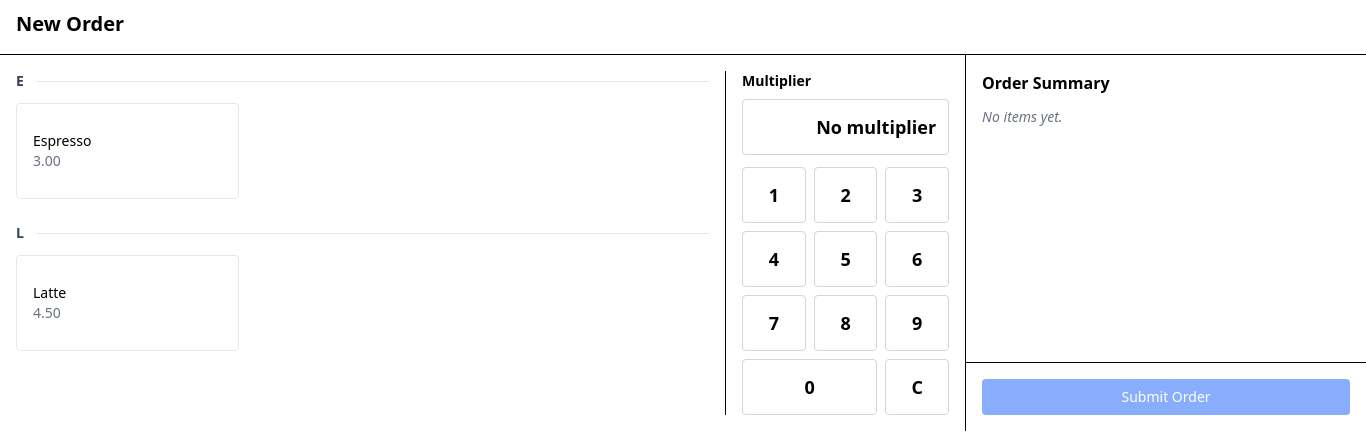
Test: Order › removes article from cart when quantity reaches zero via decrease
This screenshot has width=1366, height=448.
Click the button "Espresso 3.00": (128, 151) [16,103,239,199]
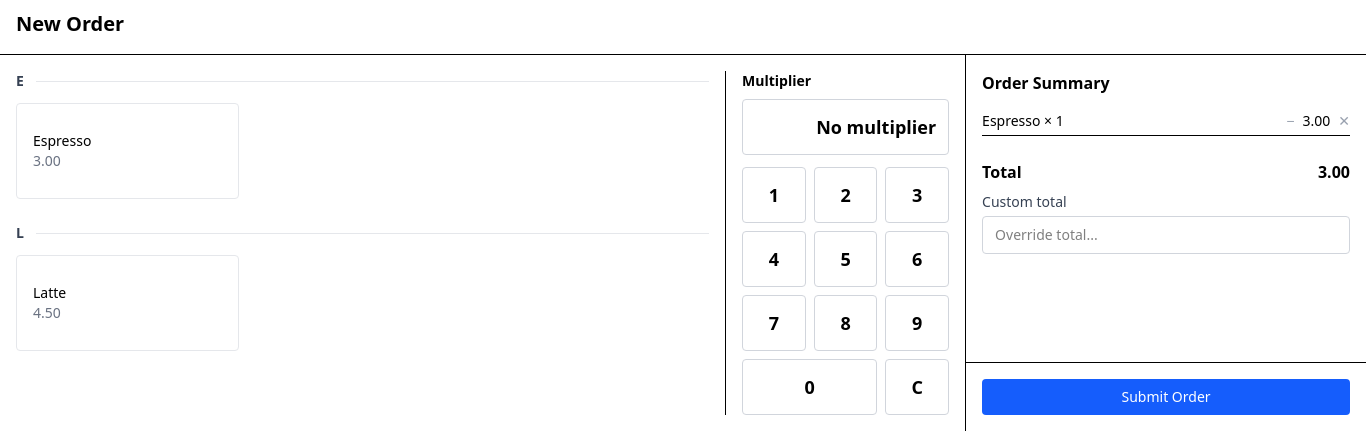
Click the button named "Decrease Espresso": (1290, 121) [1286,111,1294,131]
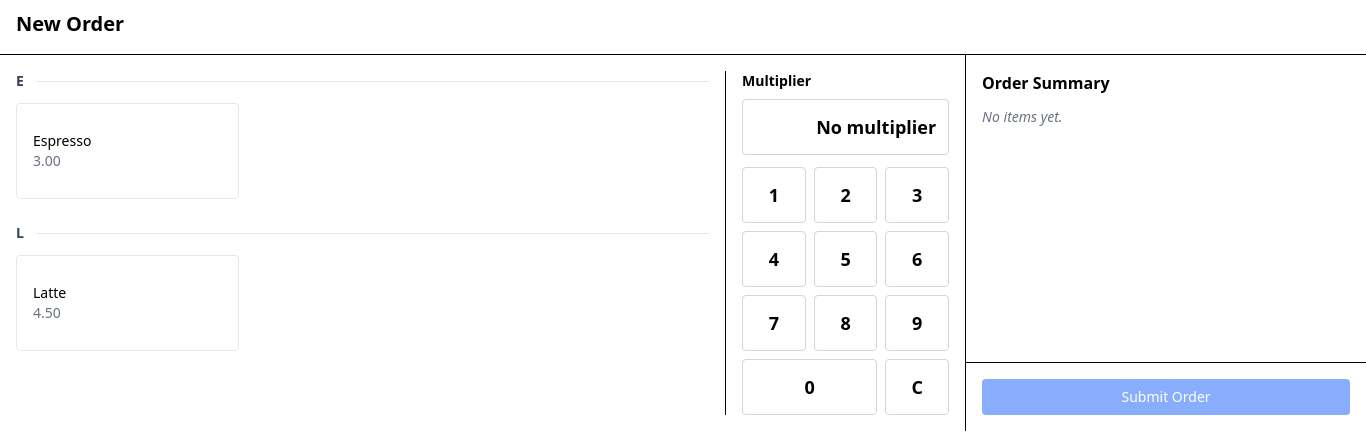
Expected: the text "Espresso ×" is gone
Expected: the text "No items yet." is shown, [982,107,1062,126]
